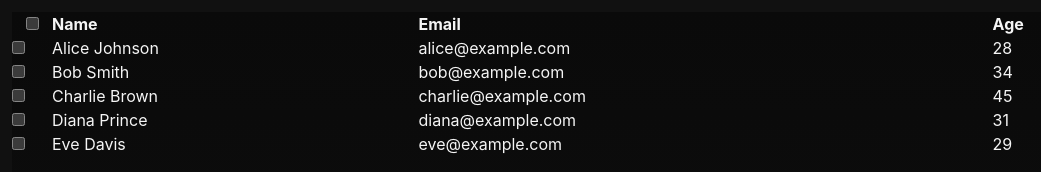
DataTable - Row Selection › selects all rows on select-all checkbox click
What coordinates should you click on to do the following:
click the checkbox named "Select All"
I would click on:
 (32, 24)
Its box is [26,17,38,30].
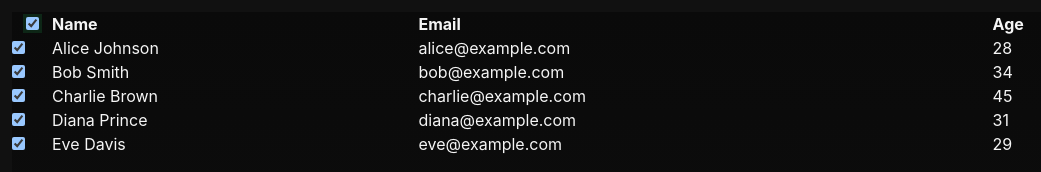
Now the checkbox named "Select All" is checked, box [26,17,38,30]
Now the checkbox named "Select row 1" is checked, box [12,41,25,54]
Now the checkbox named "Select row 2" is checked, box [12,65,25,78]
